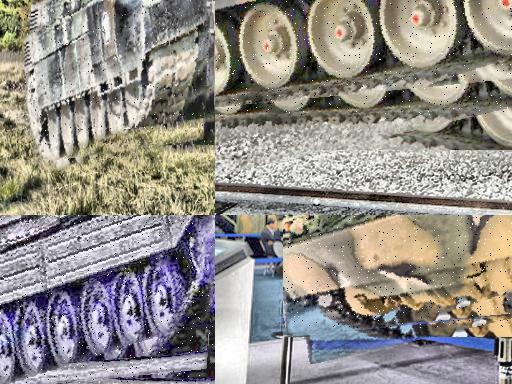tanks: (1, 216, 216, 384), (216, 1, 512, 108), (26, 1, 212, 163), (284, 216, 512, 330)
